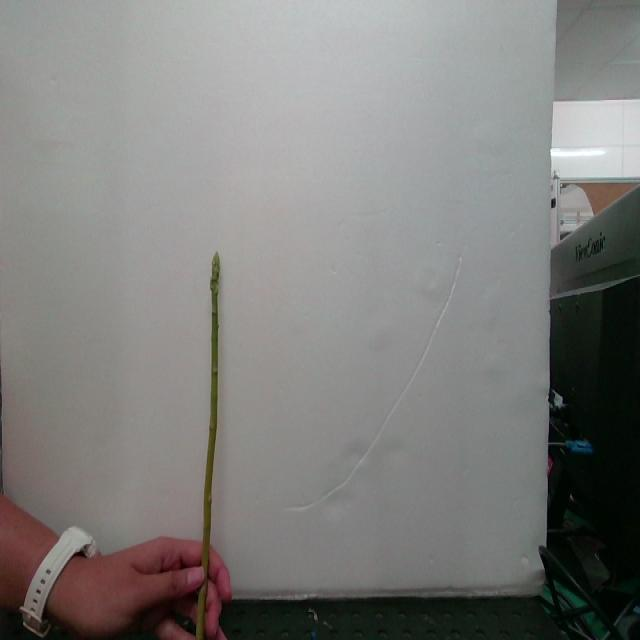aspargus: (200, 255, 223, 588)
